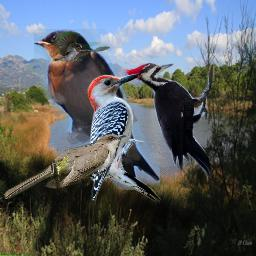Cuckoo: (3, 133, 126, 199)
Swallow: (34, 29, 160, 190), (53, 32, 110, 62)
Woodpecker: (81, 68, 167, 212), (124, 62, 215, 182)
